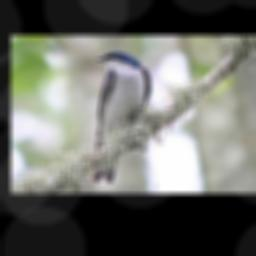Swallow: (87, 50, 152, 184)
